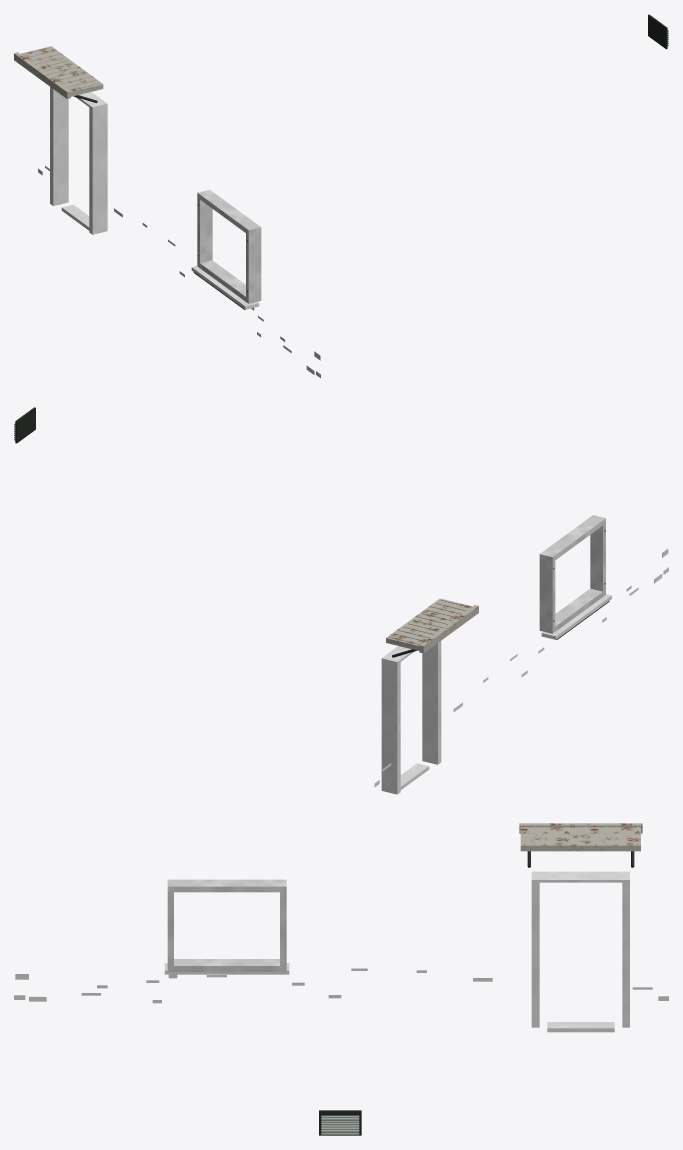
The model's file is SM_Homes_H03_Fixtures.glb.
3 renders of one model, top to bottom at view 1: azimuth 30°, elevation 25°; view 2: azimuth 150°, elevation 25°; view 3: azimuth 270°, elevation 25°, orthographic. The views are drawn at different scales.
Parts seen in each view (by area): view 1: SM_Homes_H03_Fixtures; view 2: SM_Homes_H03_Fixtures; view 3: SM_Homes_H03_Fixtures.
Part boxes in pixels (left/top/right/bottom): SM_Homes_H03_Fixtures: left=14, top=14, right=668, bottom=378; SM_Homes_H03_Fixtures: left=14, top=407, right=668, bottom=794; SM_Homes_H03_Fixtures: left=14, top=823, right=668, bottom=1135.
Size of the model in its own units: 9.75 by 2.88 by 9.25.
Materials: 7 (5 with a texture image).
